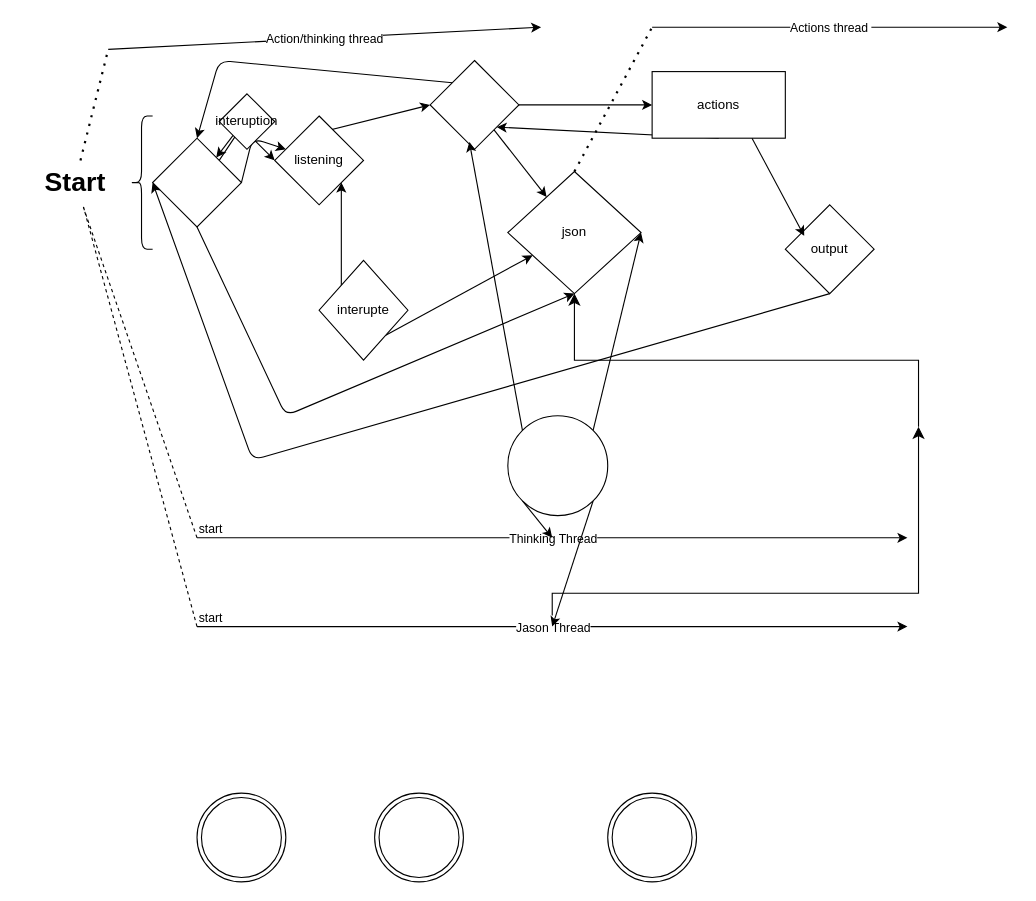
Some shapes in this 1036 by 901 pixel diagram are drawn without their labels. The centre of each missing label's shape, as x and y in pixels:
ai: (x=474, y=104)
history: (x=557, y=465)
Input: (x=196, y=182)
